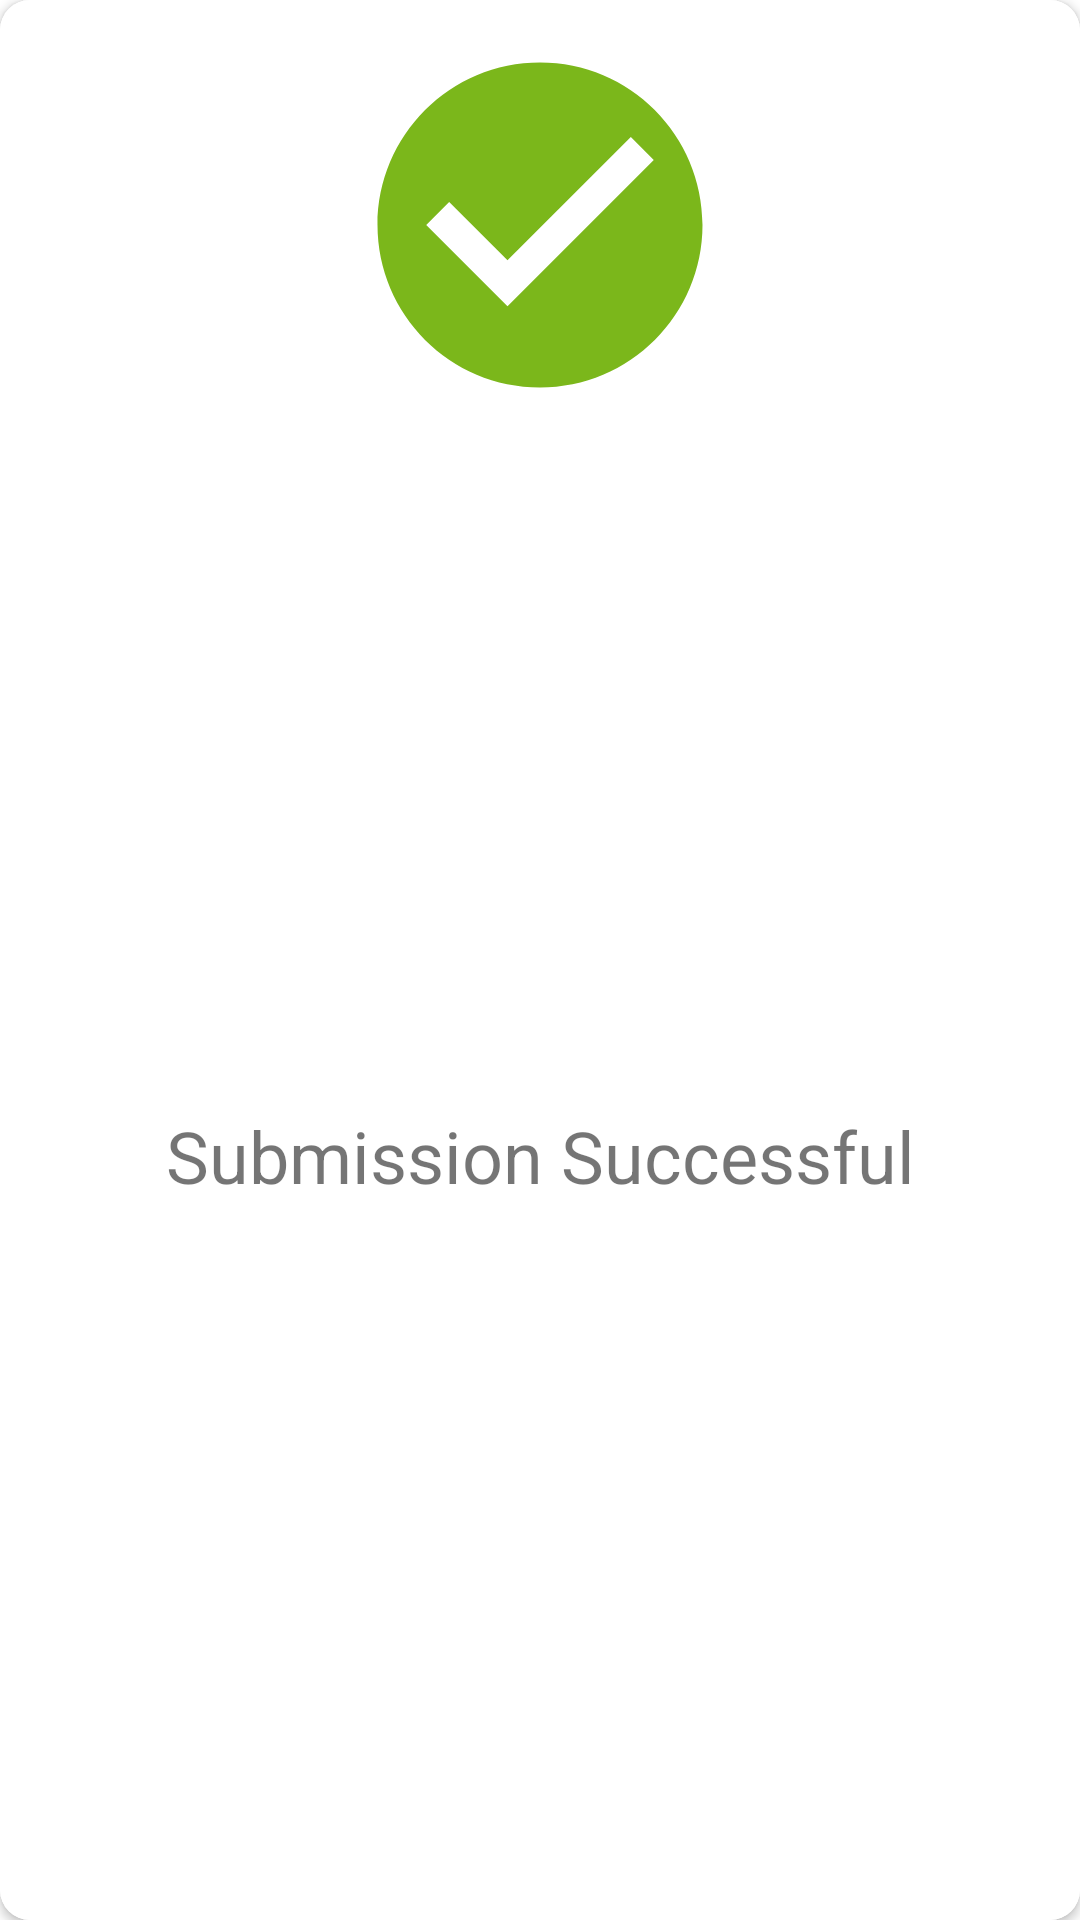

Named icons in this screenshot (1080px×1920px) and their centers, point (x, y):
check circle: point (540, 225)
